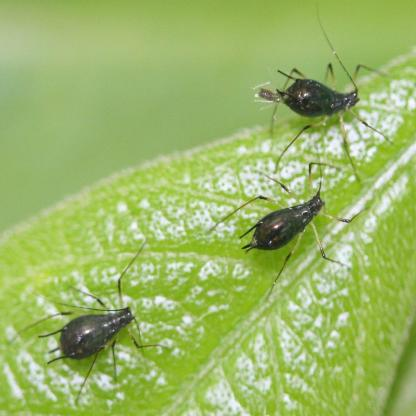aphid: (30, 265, 161, 374), (222, 167, 347, 275), (265, 53, 375, 147)
